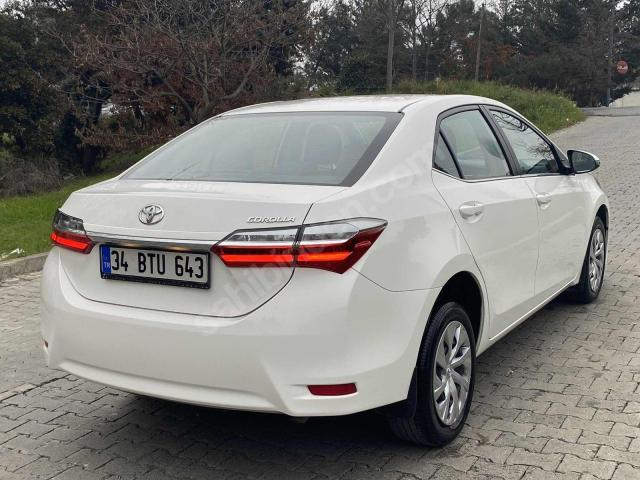plaka: (100, 245, 208, 288)
